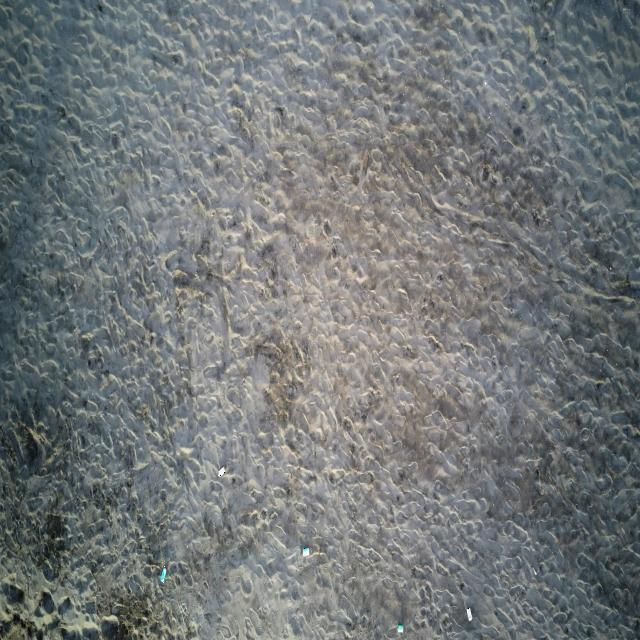tin-and-aluminum-cans: (160, 566, 168, 583), (466, 606, 474, 622), (218, 465, 227, 478), (302, 546, 310, 557), (396, 624, 404, 634)
